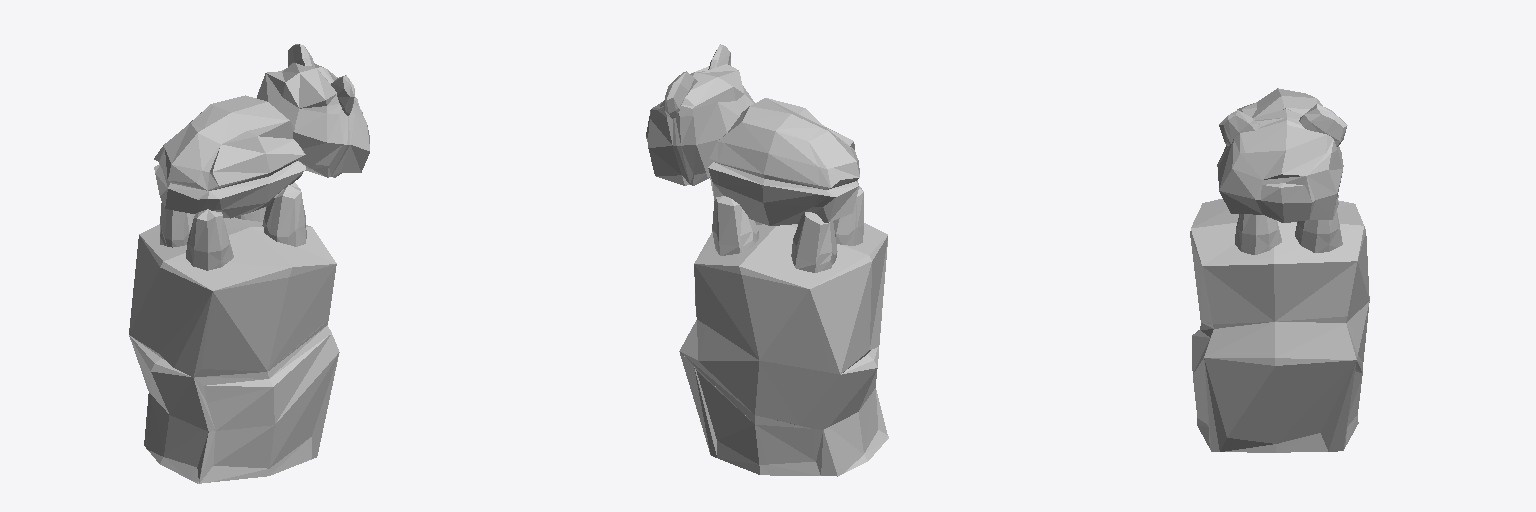
The model's file is PiggyStatueAltColor.obj.
3 views of the same model, side by side, from view 1: azimuth 30°, elevation 25°; view 2: azimuth 150°, elevation 25°; view 3: azimuth 270°, elevation 25° (orthographic).
Parts seen in each view (by area): view 1: preda3:Default preda3:group20 polySurface56, predinhas2:Default predinhas2:group22 polySurface59, predinhas2:Default predinhas2:group22 polySurface58, predinhas2:Default predinhas2:group22 polySurface65, predinhas2:Default predinhas2:group22 polySurface62, predinhas2:Default predinhas2:group22 polySurface64, predinhas2:Default predinhas2:group22 polySurface60; view 2: preda3:Default preda3:group20 polySurface56, predinhas2:Default predinhas2:group22 polySurface59, predinhas2:Default predinhas2:group22 polySurface58, predinhas2:Default predinhas2:group22 polySurface64, predinhas2:Default predinhas2:group22 polySurface63, predinhas2:Default predinhas2:group22 polySurface65, predinhas2:Default predinhas2:group22 polySurface61; view 3: preda3:Default preda3:group20 polySurface56, predinhas2:Default predinhas2:group22 polySurface58, predinhas2:Default predinhas2:group22 polySurface62, predinhas2:Default predinhas2:group22 polySurface63, predinhas2:Default predinhas2:group22 polySurface59, predinhas2:Default predinhas2:group22 polySurface61, predinhas2:Default predinhas2:group22 polySurface60.
Boxes of the visible parts, x1=… form: preda3:Default preda3:group20 polySurface56: x1=129, y1=217, x2=339, y2=483; predinhas2:Default predinhas2:group22 polySurface59: x1=154, y1=95, x2=305, y2=218; predinhas2:Default predinhas2:group22 polySurface58: x1=257, y1=63, x2=369, y2=177; predinhas2:Default predinhas2:group22 polySurface65: x1=186, y1=209, x2=233, y2=270; predinhas2:Default predinhas2:group22 polySurface62: x1=262, y1=182, x2=306, y2=246; predinhas2:Default predinhas2:group22 polySurface64: x1=160, y1=203, x2=194, y2=247; predinhas2:Default predinhas2:group22 polySurface60: x1=331, y1=75, x2=354, y2=115; preda3:Default preda3:group20 polySurface56: x1=679, y1=223, x2=888, y2=476; predinhas2:Default predinhas2:group22 polySurface59: x1=708, y1=98, x2=859, y2=225; predinhas2:Default predinhas2:group22 polySurface58: x1=646, y1=64, x2=754, y2=185; predinhas2:Default predinhas2:group22 polySurface64: x1=791, y1=212, x2=837, y2=272; predinhas2:Default predinhas2:group22 polySurface63: x1=712, y1=196, x2=758, y2=255; predinhas2:Default predinhas2:group22 polySurface65: x1=833, y1=186, x2=863, y2=245; predinhas2:Default predinhas2:group22 polySurface61: x1=664, y1=71, x2=697, y2=118; preda3:Default preda3:group20 polySurface56: x1=1190, y1=199, x2=1369, y2=452; predinhas2:Default predinhas2:group22 polySurface58: x1=1217, y1=108, x2=1343, y2=222; predinhas2:Default predinhas2:group22 polySurface62: x1=1235, y1=214, x2=1281, y2=254; predinhas2:Default predinhas2:group22 polySurface63: x1=1295, y1=210, x2=1342, y2=252; predinhas2:Default predinhas2:group22 polySurface59: x1=1237, y1=88, x2=1322, y2=117; predinhas2:Default predinhas2:group22 polySurface61: x1=1299, y1=104, x2=1347, y2=146; predinhas2:Default predinhas2:group22 polySurface60: x1=1219, y1=110, x2=1260, y2=145.
Size of the model in its own units: 1.37 by 2.22 by 0.9892.